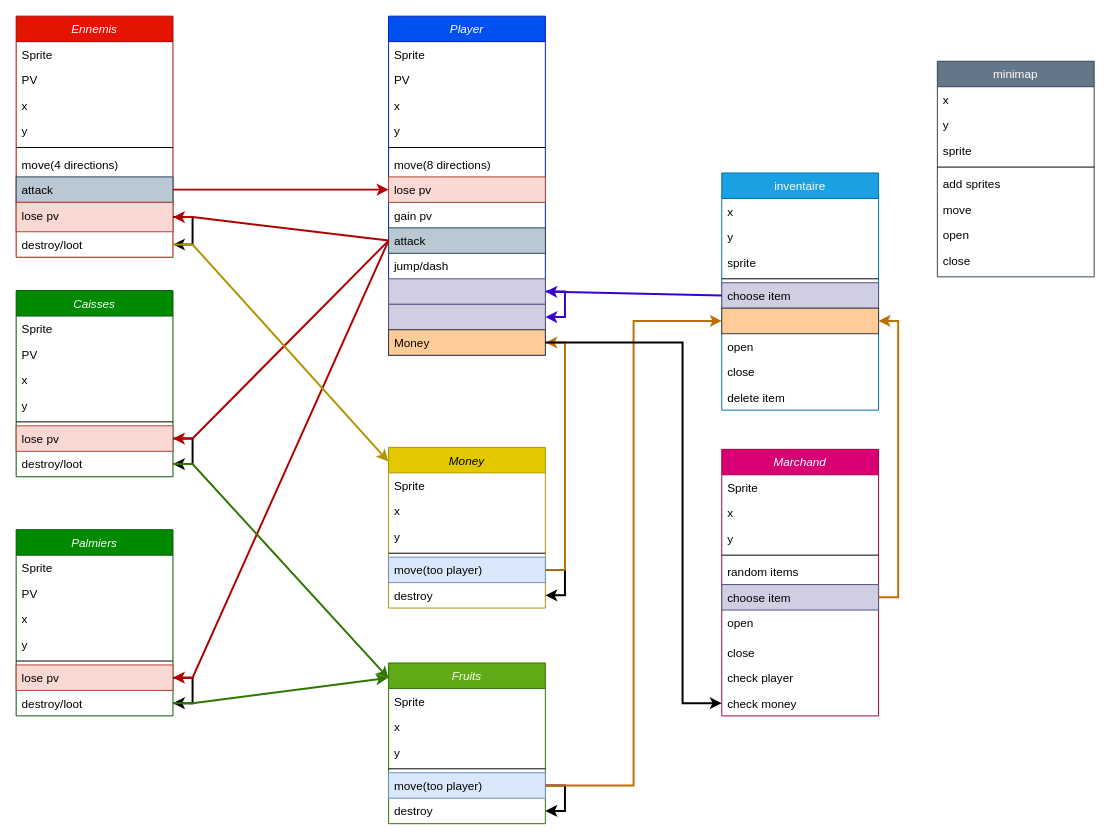
The diagram is 1110 pixels wide and 840 high, and some of its shapes have lost their labels. Each missing label, with the centre of its shape:
add item: the point at 800,320
item effect: the point at 466,316
use item: the point at 466,291
